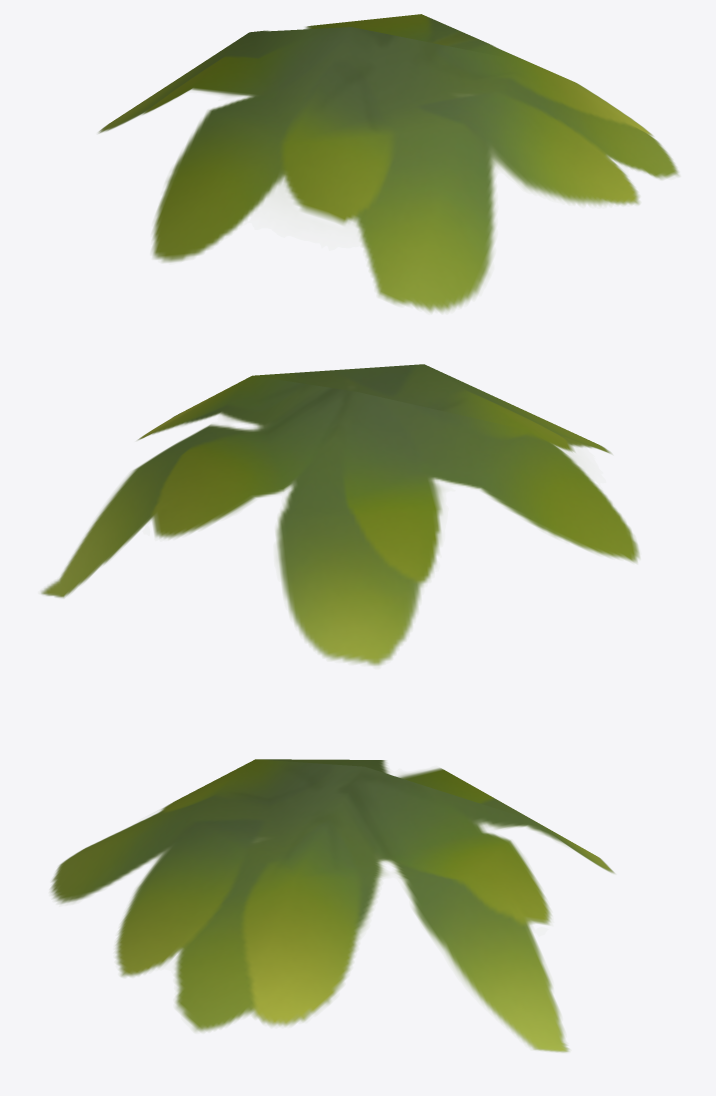
The model's file is leafage6.glb.
The picture shows the model from 3 angles, top to bottom: view 1: azimuth 30°, elevation 25°; view 2: azimuth 150°, elevation 25°; view 3: azimuth 270°, elevation 25°; orthographic projection.
Parts seen in each view (by area): view 1: Leafage6; view 2: Leafage6; view 3: Leafage6.
Boxes of the visible parts, bbox=[...] form: Leafage6: bbox=[98, 14, 678, 312]; Leafage6: bbox=[41, 364, 639, 665]; Leafage6: bbox=[50, 759, 614, 1052].
Bounding box in the file's own units: 1.01 × 0.3185 × 1.01.
Materials: 1 (1 with a texture image).
